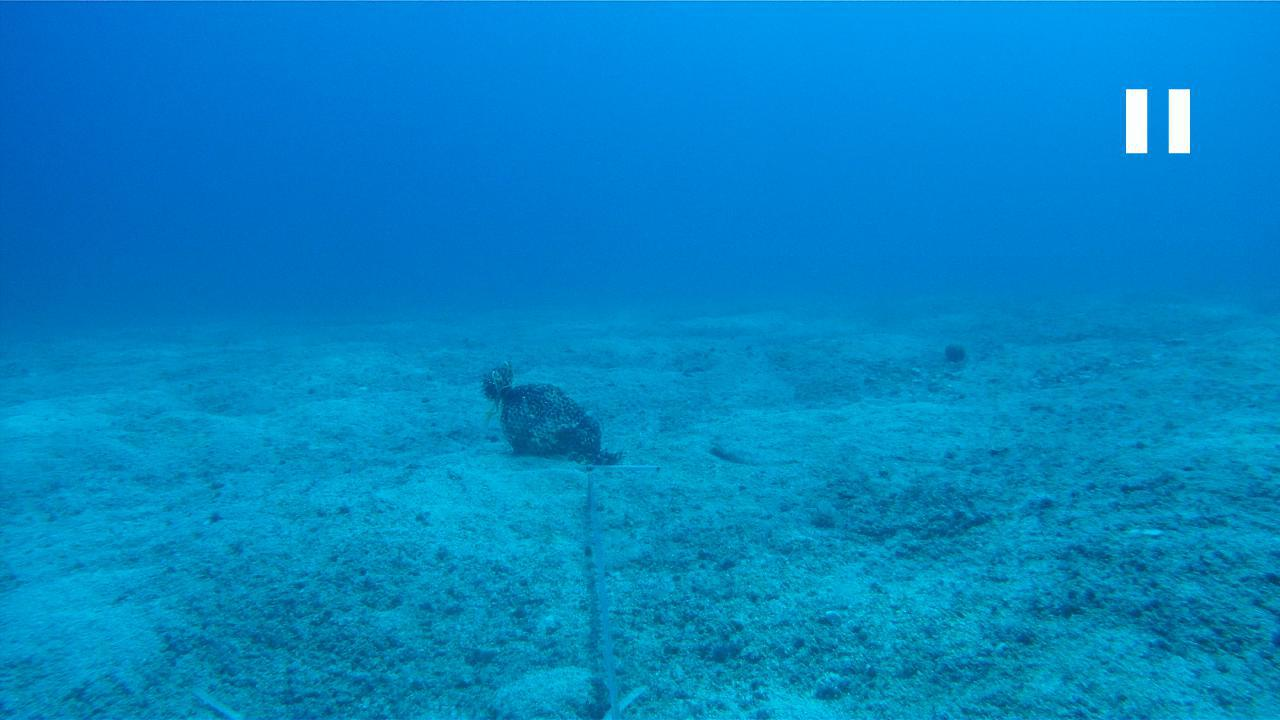bothus: (706, 427, 808, 468)
